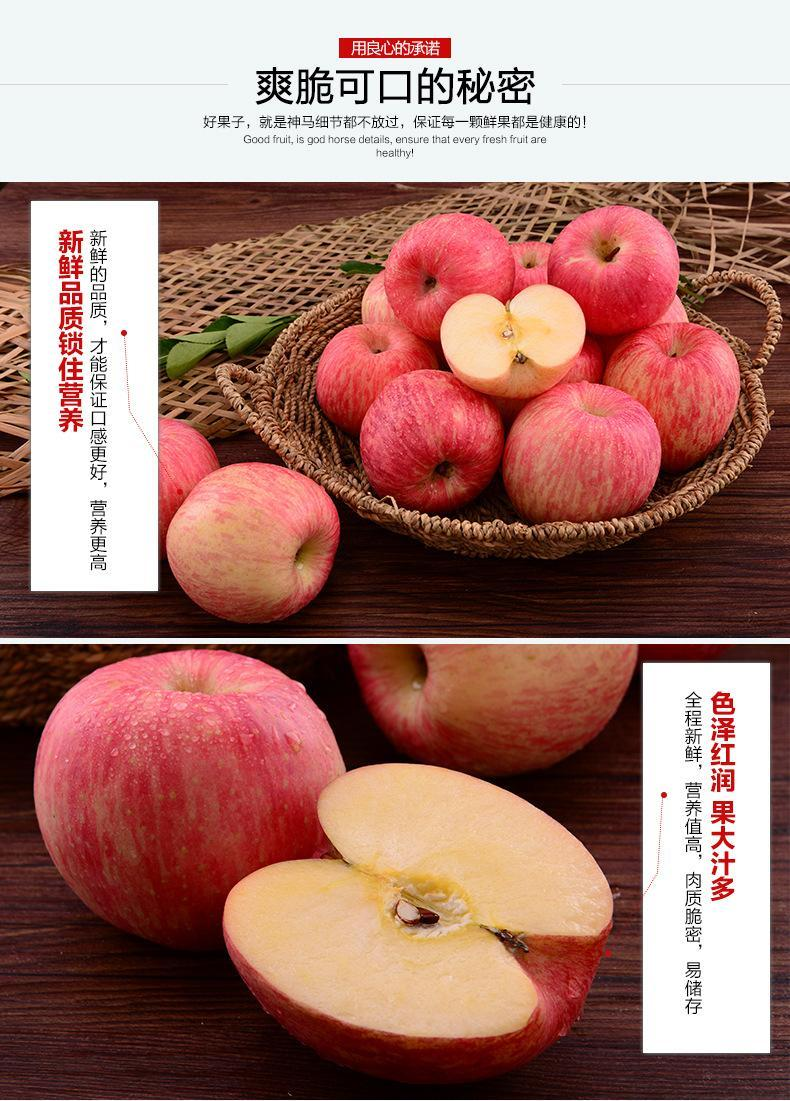apple: (32, 644, 346, 949), (346, 638, 639, 777), (161, 461, 341, 625), (503, 380, 659, 514), (357, 370, 513, 504), (545, 206, 681, 336), (607, 320, 736, 457), (382, 207, 516, 338), (313, 320, 437, 426)
